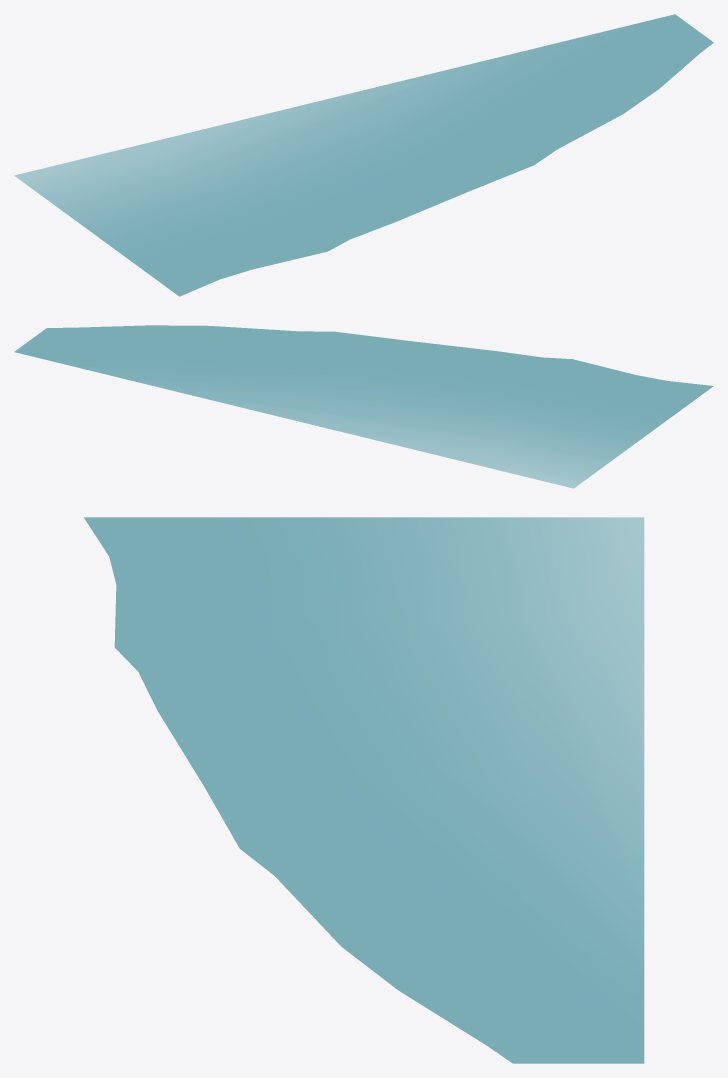
3 renders of one model, top to bottom at view 1: azimuth 30°, elevation 25°; view 2: azimuth 150°, elevation 25°; view 3: azimuth 270°, elevation 25°, orthographic. The views are drawn at different scales.
Parts seen in each view (by area): view 1: city; view 2: city; view 3: city.
Boxes of the visible parts, x1=… form: city: x1=14, y1=14, x2=713, y2=296; city: x1=14, y1=325, x2=713, y2=488; city: x1=84, y1=517, x2=644, y2=1063.
Bounding box in the file's own units: 500 × 0 × 217.
